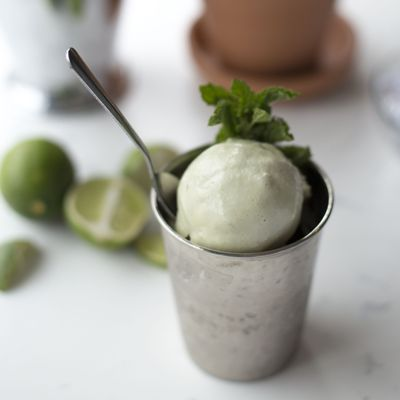pizza: (149, 131, 335, 381)
